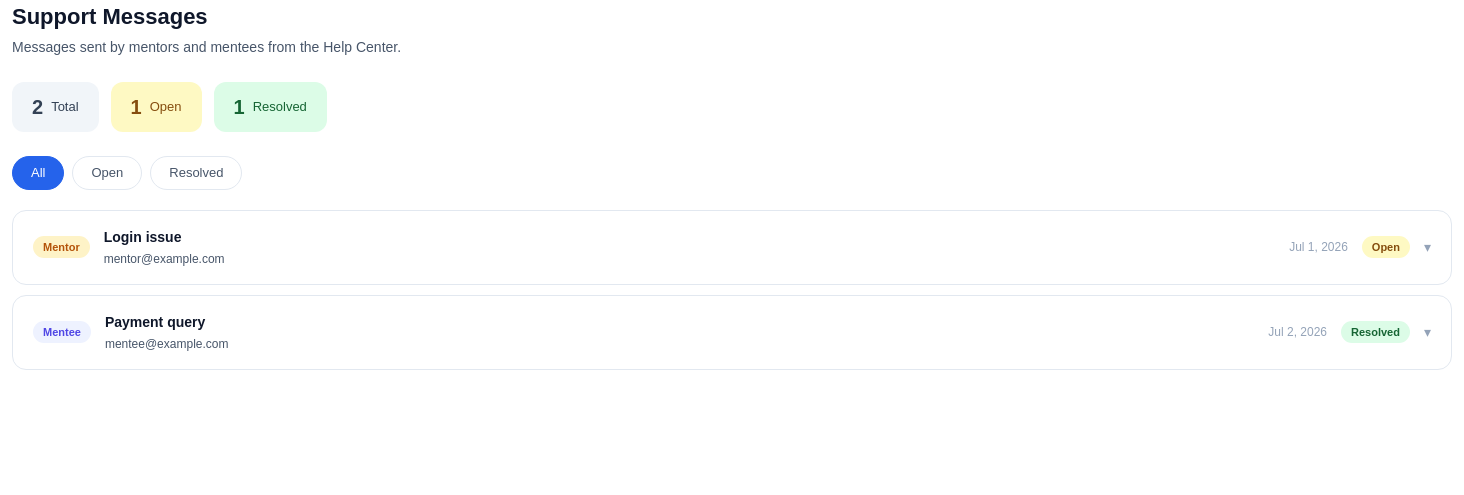
AdminSupportMessages Component Specification › should load message logs, expand item descriptions, and transition open states to resolved status
The image size is (1464, 495).
Expected: the text "Login issue" is shown, [104, 228, 182, 244]
Expected: the text "Payment query" is shown, [105, 314, 205, 330]
# Locates the interactive accessible button row container node
Click the button "mentor Login issue mentor@example.com Jul 1, 2026 Open ▾".
click(61, 247)  # box [13, 210, 1451, 284]
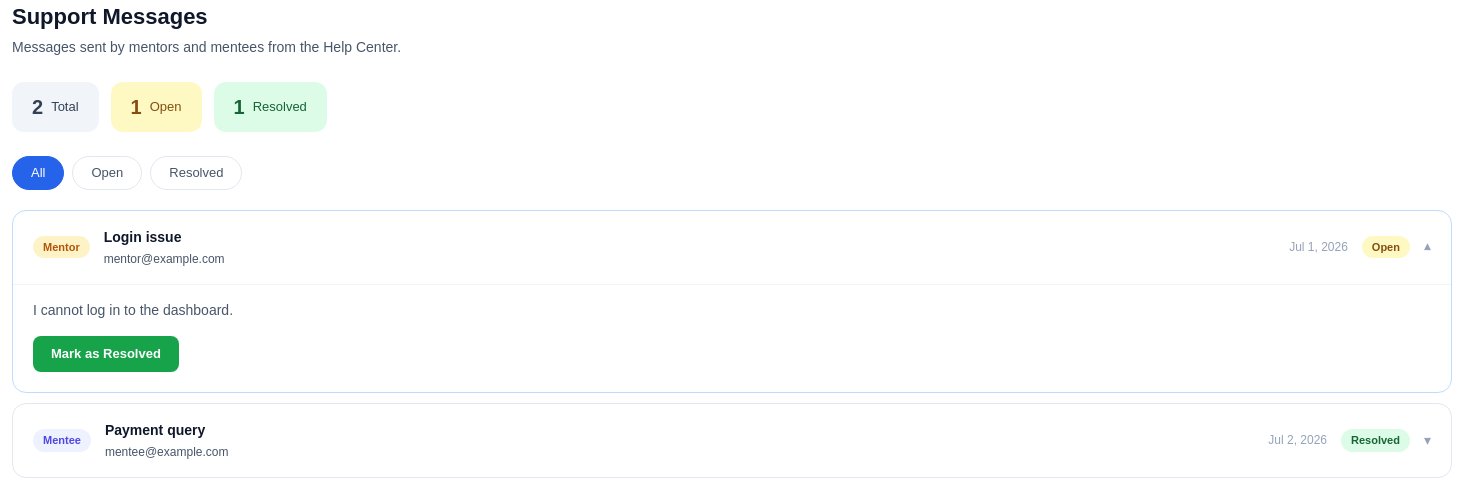
Expected: the text "I cannot log in to the dashboard." is shown, [33, 302, 233, 318]
Click the button "Mark as Resolved".
click(106, 354)  # box [33, 336, 179, 372]
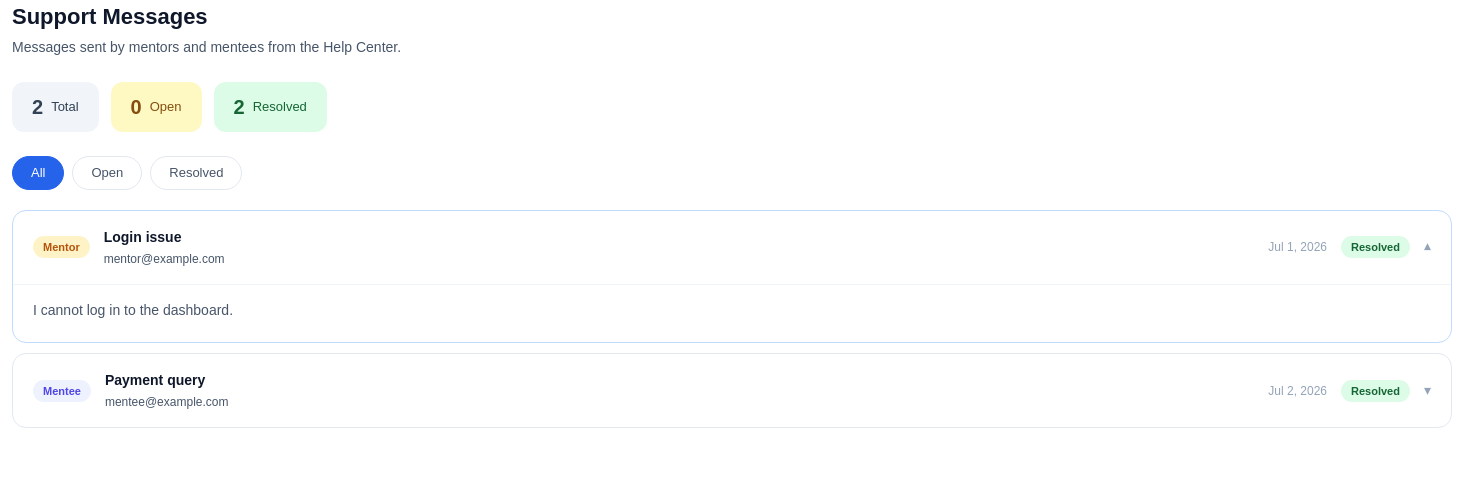
Expected: the 2nd text "Resolved" is shown, [1341, 236, 1410, 258]
